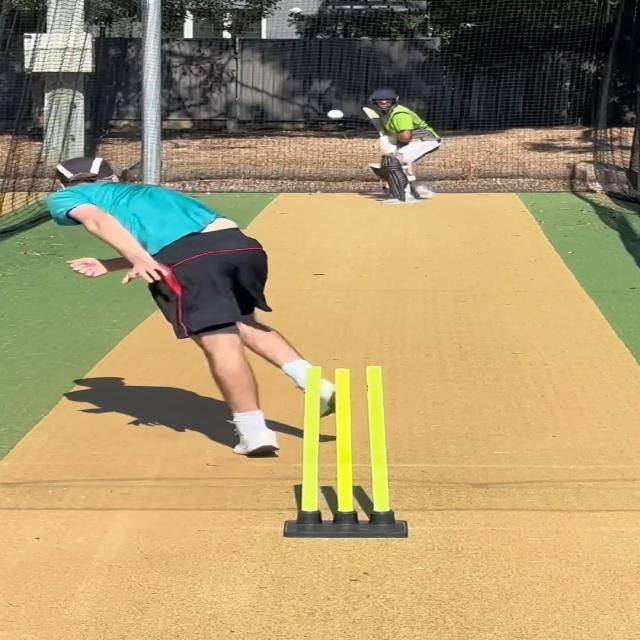Cricket ball: (326, 109, 345, 121)
